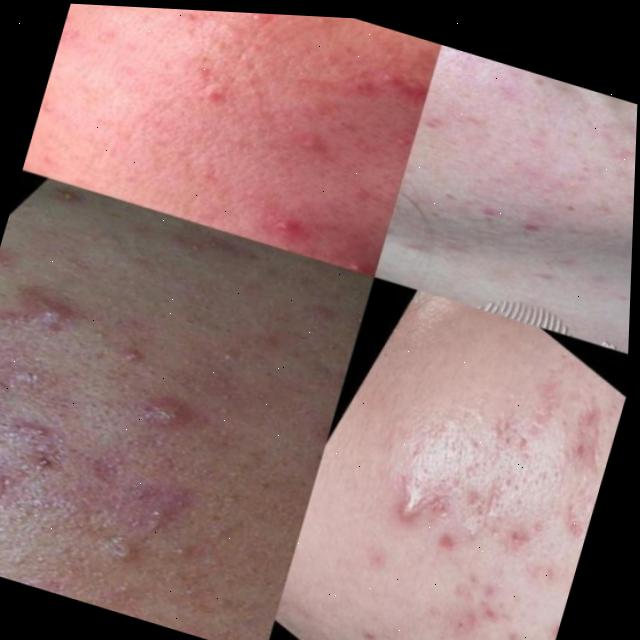Acne: (354, 342, 625, 631), (0, 212, 240, 537), (395, 43, 639, 292), (155, 8, 424, 217)
